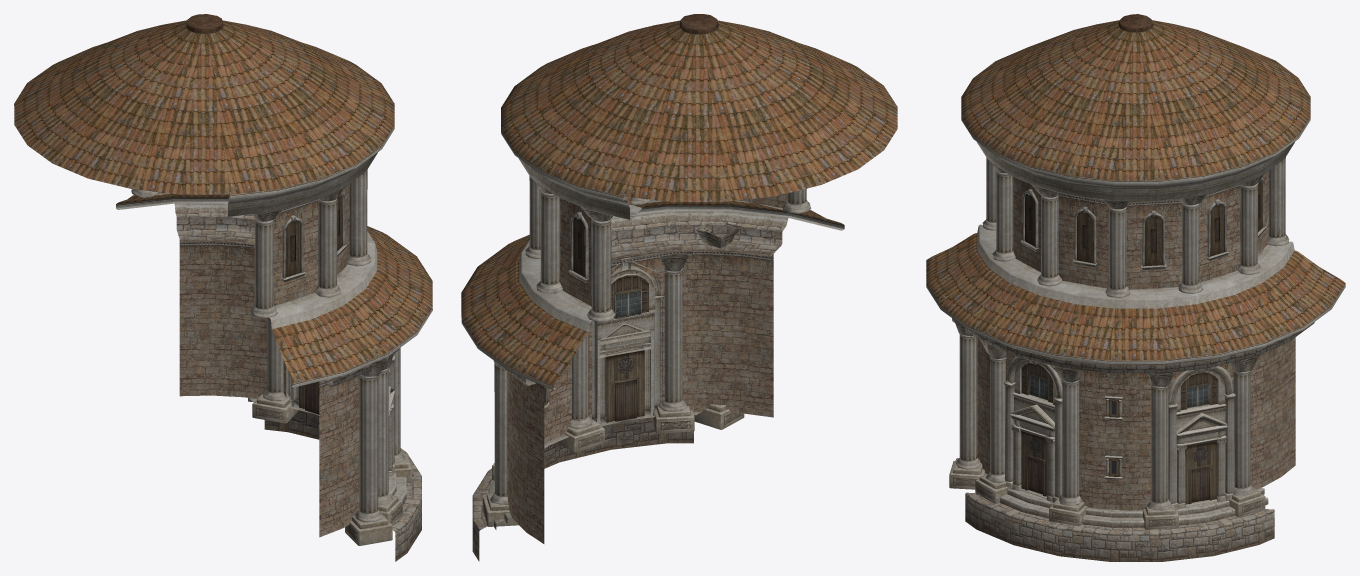
The model's file is Tower4.fbx.
3 renders of one model, left to right at view 1: azimuth 30°, elevation 25°; view 2: azimuth 150°, elevation 25°; view 3: azimuth 270°, elevation 25°, orthographic. The views are drawn at different scales.
Parts seen in each view (by area): view 1: SM_MERGED_StaticMeshActor_12517; view 2: SM_MERGED_StaticMeshActor_12517; view 3: SM_MERGED_StaticMeshActor_12517.
Boxes of the visible parts, x1,y1,x2,y2 form: SM_MERGED_StaticMeshActor_12517: (14, 14, 432, 561); SM_MERGED_StaticMeshActor_12517: (461, 14, 897, 561); SM_MERGED_StaticMeshActor_12517: (926, 14, 1345, 561).
Size of the model in its own units: 4.93 by 6.45 by 5.37.
